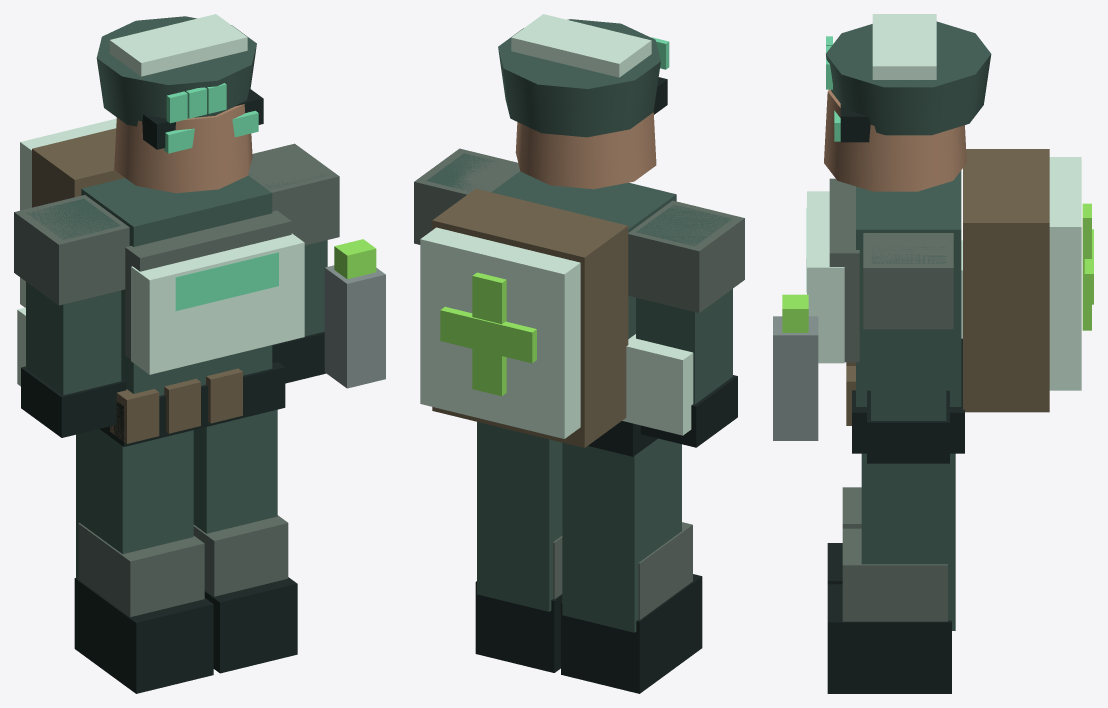
The model's file is medic_l03.glb.
3 views of the same model, side by side, from view 1: azimuth 30°, elevation 25°; view 2: azimuth 150°, elevation 25°; view 3: azimuth 270°, elevation 25° (orthographic).
Parts seen in each view (by area): view 1: trouser (×2), boot (×2), shoulder_plate (×2), reinforced_vest, knee_plate (×2), sleeve (×2), body, face, helmet, aid_injector, glove (×2), protective_hood (+14 smaller); view 2: trouser (×2), medical_pack, field_pack, boot (×2), shoulder_plate (×2), helmet, sleeve (×2), face, triage_satchel, protective_hood, body, knee_plate (×2) (+4 smaller); view 3: field_pack, helmet, boot (×2), trouser, shoulder_plate, body, medical_pack, knee_plate (×2), face, sleeve, aid_injector, reinforced_vest (+8 smaller).
Boxes of the visible parts, box(x1,y1,x2,y2) form: trouser (×2): box(76, 409, 277, 577); boot (×2): box(74, 577, 297, 693); shoulder_plate (×2): box(14, 143, 339, 305); reinforced_vest: box(131, 233, 304, 374); knee_plate (×2): box(78, 515, 288, 616); sleeve (×2): box(26, 174, 327, 395); body: box(81, 175, 272, 395); face: box(114, 104, 252, 193); helmet: box(96, 16, 256, 126); aid_injector: box(324, 265, 385, 388); glove (×2): box(21, 331, 325, 437); protective_hood: box(109, 14, 247, 76); trouser (×2): box(477, 422, 681, 632); medical_pack: box(420, 227, 580, 438); field_pack: box(432, 188, 628, 447); boot (×2): box(475, 574, 702, 693); shoulder_plate (×2): box(414, 148, 744, 312); helmet: box(498, 19, 660, 137); sleeve (×2): box(426, 153, 732, 404); face: box(515, 112, 656, 189); triage_satchel: box(622, 334, 693, 435); protective_hood: box(511, 14, 651, 77); body: box(491, 171, 676, 338); knee_plate (×2): box(553, 522, 692, 619); field_pack: box(963, 149, 1049, 412); helmet: box(826, 21, 991, 135); boot (×2): box(827, 543, 951, 693); trouser: box(861, 453, 955, 630); shoulder_plate: box(863, 233, 953, 329); body: box(856, 171, 961, 406); medical_pack: box(1049, 157, 1081, 390); knee_plate (×2): box(842, 487, 947, 621); face: box(824, 89, 966, 191); sleeve: box(871, 245, 946, 420); aid_injector: box(773, 316, 818, 440); reinforced_vest: box(807, 191, 844, 363).
Size of the model in its own units: 0.875 by 1.8 by 0.8525.
